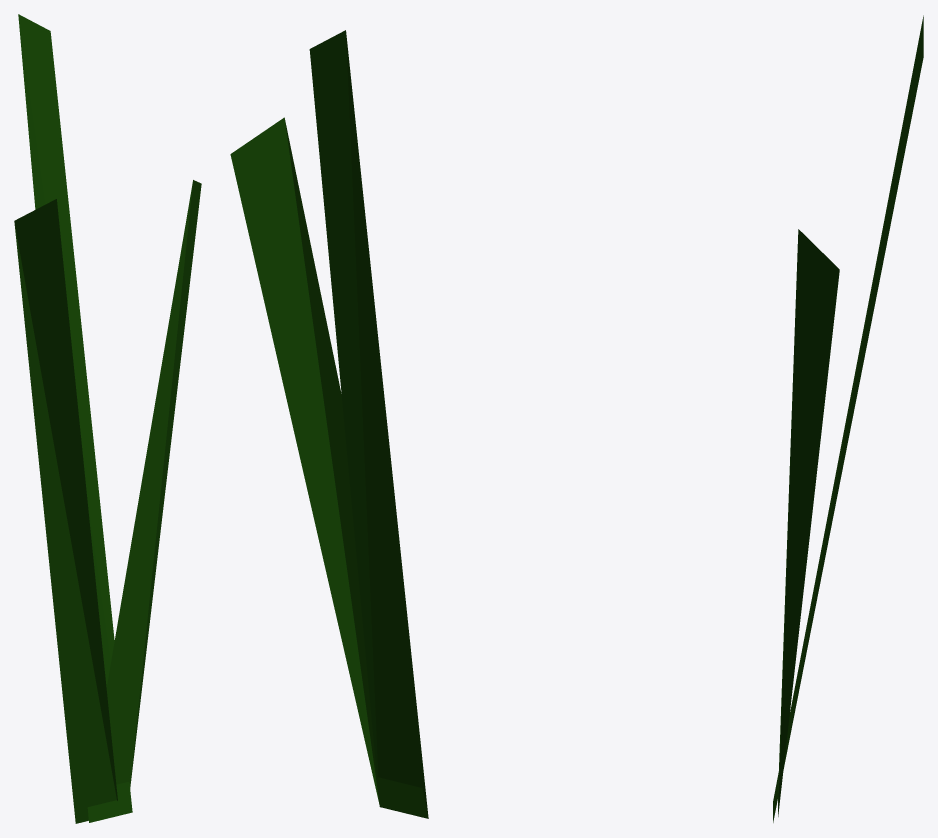
The model's file is grass2.glb.
The picture shows the model from 3 angles, left to right: view 1: azimuth 30°, elevation 25°; view 2: azimuth 150°, elevation 25°; view 3: azimuth 270°, elevation 25°; orthographic projection. The views are drawn at different scales.
Visible parts, largest first — view 1: Plane; view 2: Plane; view 3: Plane.
Part boxes in pixels (<box>): Plane: <box>14,14,201,823</box>; Plane: <box>230,30,428,818</box>; Plane: <box>773,15,923,822</box>.
Bounding box in the file's own units: 0.1405 × 0.3849 × 0.1254.
1 material, 1 textured.
